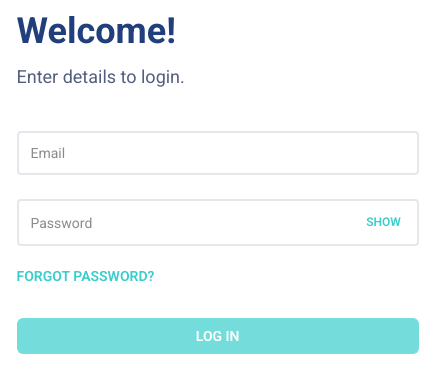
Login › enables login button when both fields are filled correctly
Type "test@example.com" into the field with placeholder "Email" at (218, 152), box [16,130,419,174]
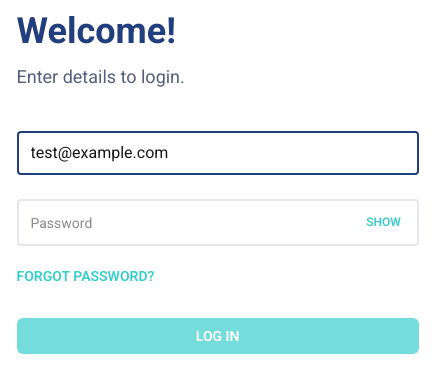
Type "password123" into the password field with placeholder "Password" at (116, 222), box [18,208,214,236]
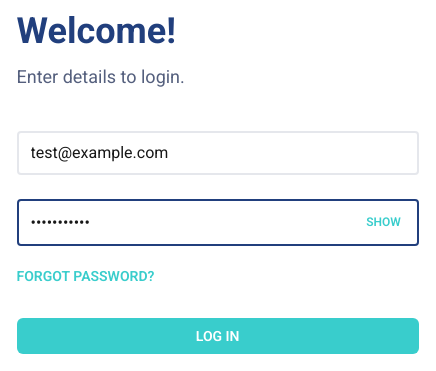
Check: the button "LOG IN" is enabled, box [16,318,419,354]
